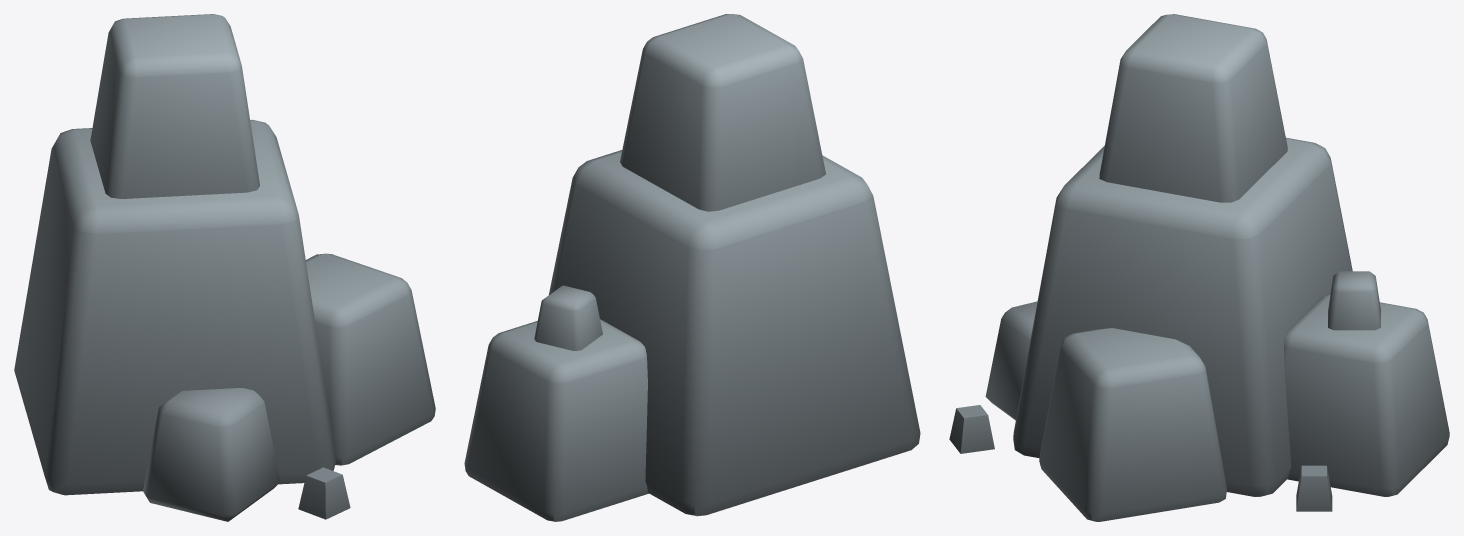
The model's file is Rock_2_G_Color1.glb.
The picture shows the model from 3 angles, left to right: view 1: azimuth 30°, elevation 25°; view 2: azimuth 150°, elevation 25°; view 3: azimuth 270°, elevation 25°; orthographic projection. The views are drawn at different scales.
Visible parts, largest first — view 1: Rock_2_G_Color1; view 2: Rock_2_G_Color1; view 3: Rock_2_G_Color1.
Part boxes in pixels (x1,y1,x2,y2): Rock_2_G_Color1: (14, 14, 435, 521); Rock_2_G_Color1: (464, 14, 920, 521); Rock_2_G_Color1: (949, 14, 1449, 521).
Bounding box in the file's own units: 3.09 × 3.2 × 3.73.
1 material, 1 textured.
